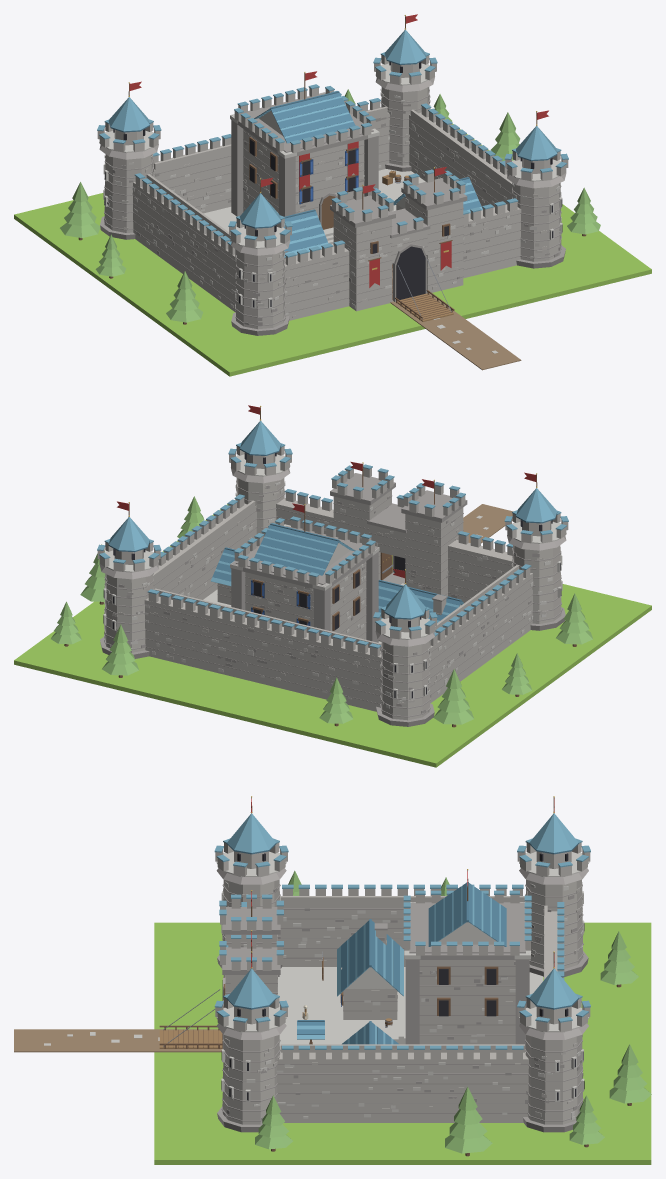
The model's file is Building_Castle.glb.
3 views of the same model, one above another, from view 1: azimuth 30°, elevation 25°; view 2: azimuth 150°, elevation 25°; view 3: azimuth 270°, elevation 25° (orthographic). The views are drawn at different scales.
Visible parts, largest first — view 1: Castle; view 2: Castle; view 3: Castle.
Boxes of the visible parts, x1,y1,x2,y2 form: Castle: (14, 14, 651, 376); Castle: (14, 405, 651, 767); Castle: (14, 796, 651, 1164).
Size of the model in its own units: 53.91 by 18.12 by 59.06.
